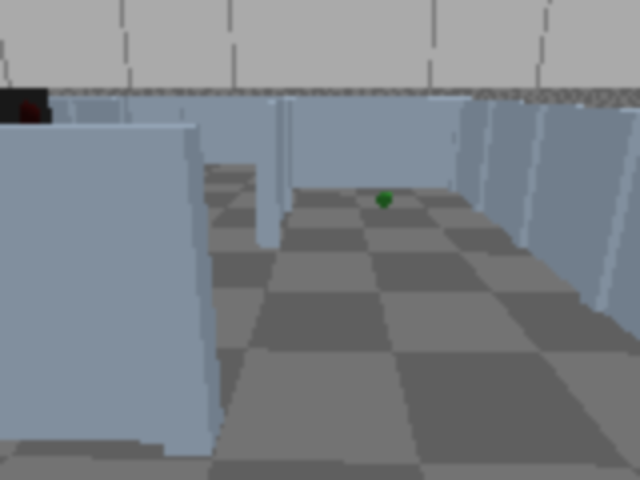puck: (374, 189, 397, 210)
